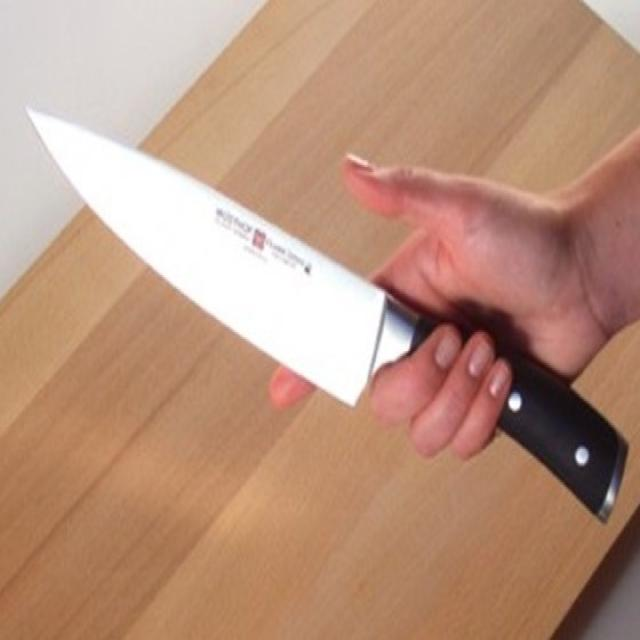knife: (19, 102, 635, 524)
